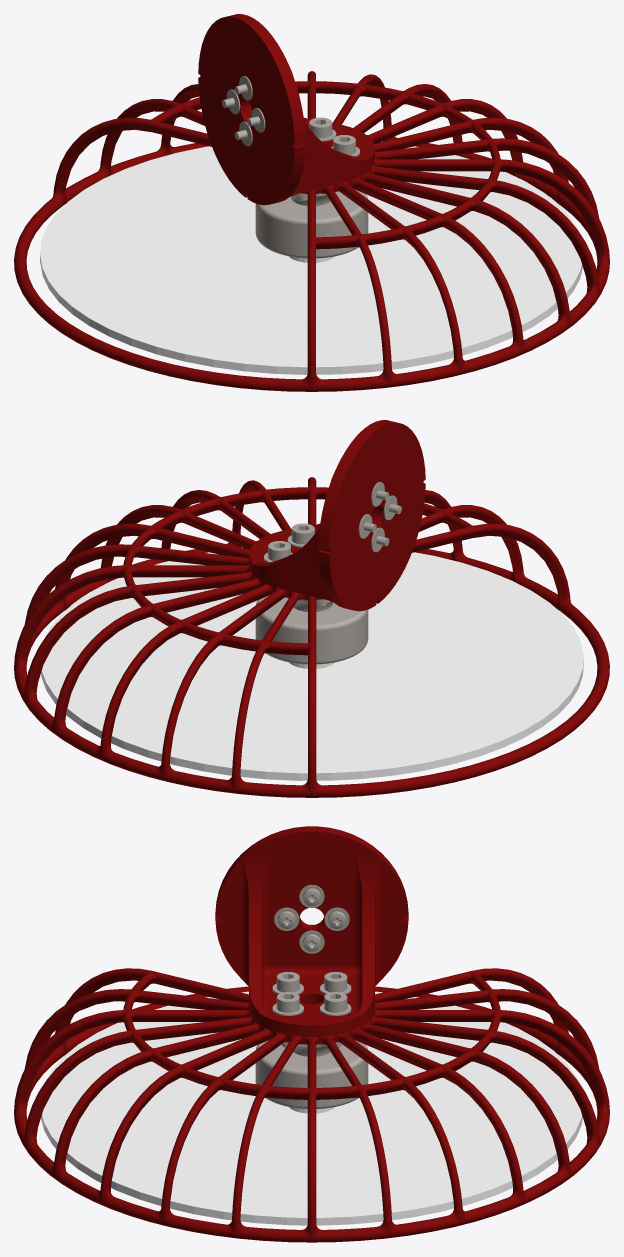
Rendered from omni_rotor_module_5inch.dae.
3 views of the same model, one above another, from view 1: azimuth 30°, elevation 25°; view 2: azimuth 150°, elevation 25°; view 3: azimuth 270°, elevation 25° (orthographic).
Visible parts, largest first — view 1: Shape_IndexedFaceSet.001; view 2: Shape_IndexedFaceSet.001; view 3: Shape_IndexedFaceSet.001.
Boxes of the visible parts, bbox=[...] form: Shape_IndexedFaceSet.001: bbox=[14, 14, 609, 391]; Shape_IndexedFaceSet.001: bbox=[14, 420, 609, 797]; Shape_IndexedFaceSet.001: bbox=[14, 826, 609, 1242].
Bounding box in the file's own units: 0.1419 × 0.142 × 0.0742.
